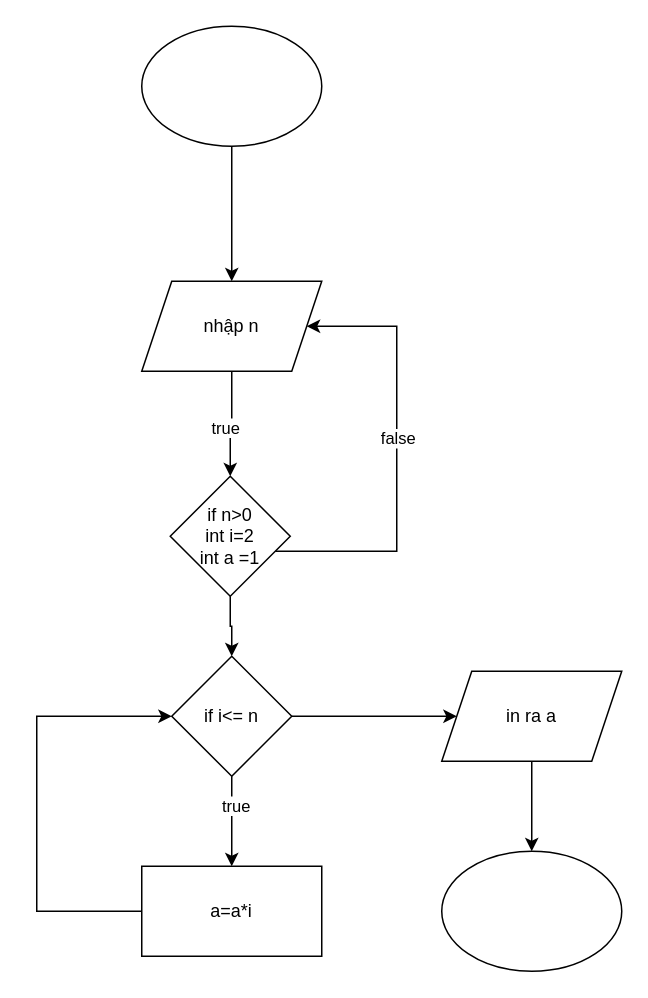
The diagram is 648 pixels wide and 998 high, and some of its shapes have lost their labels. The shapes that lost their labels are listed below. From the top down, each one's centre as x and y in pixels, then its label:
At pixel 231 85: "start".
At pixel 531 910: "end".
